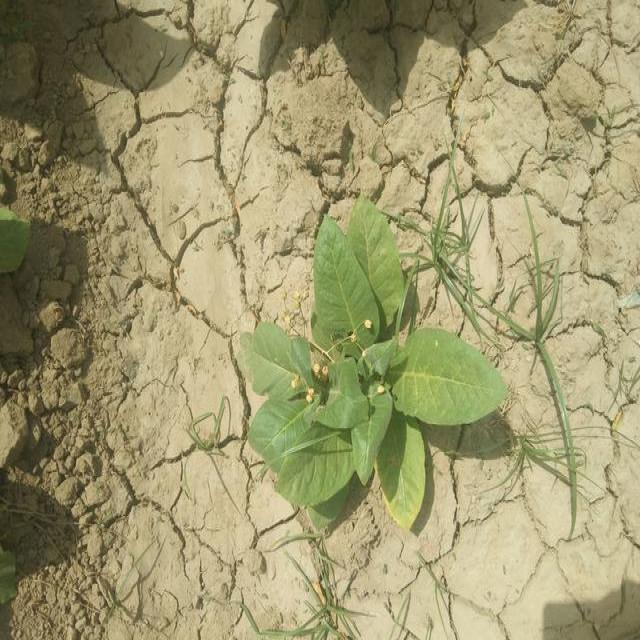crop: (242, 199, 502, 536)
